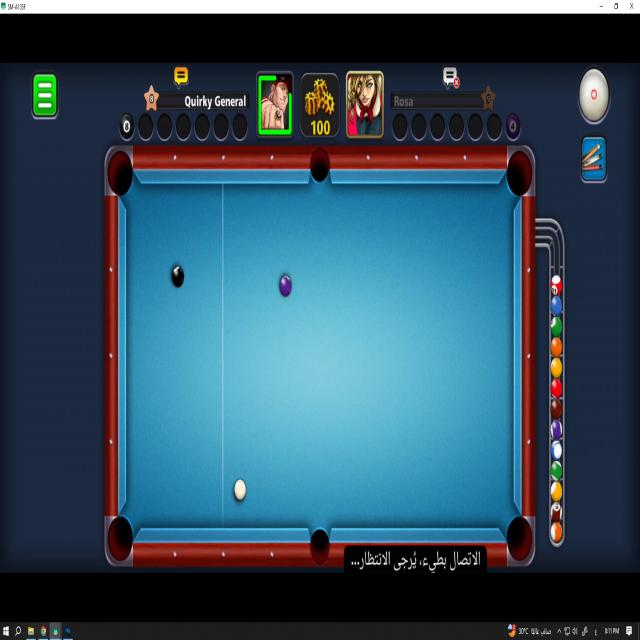object_ball: (172, 266, 184, 287), (280, 276, 291, 296)
white_cue_ball: (234, 479, 245, 500)
